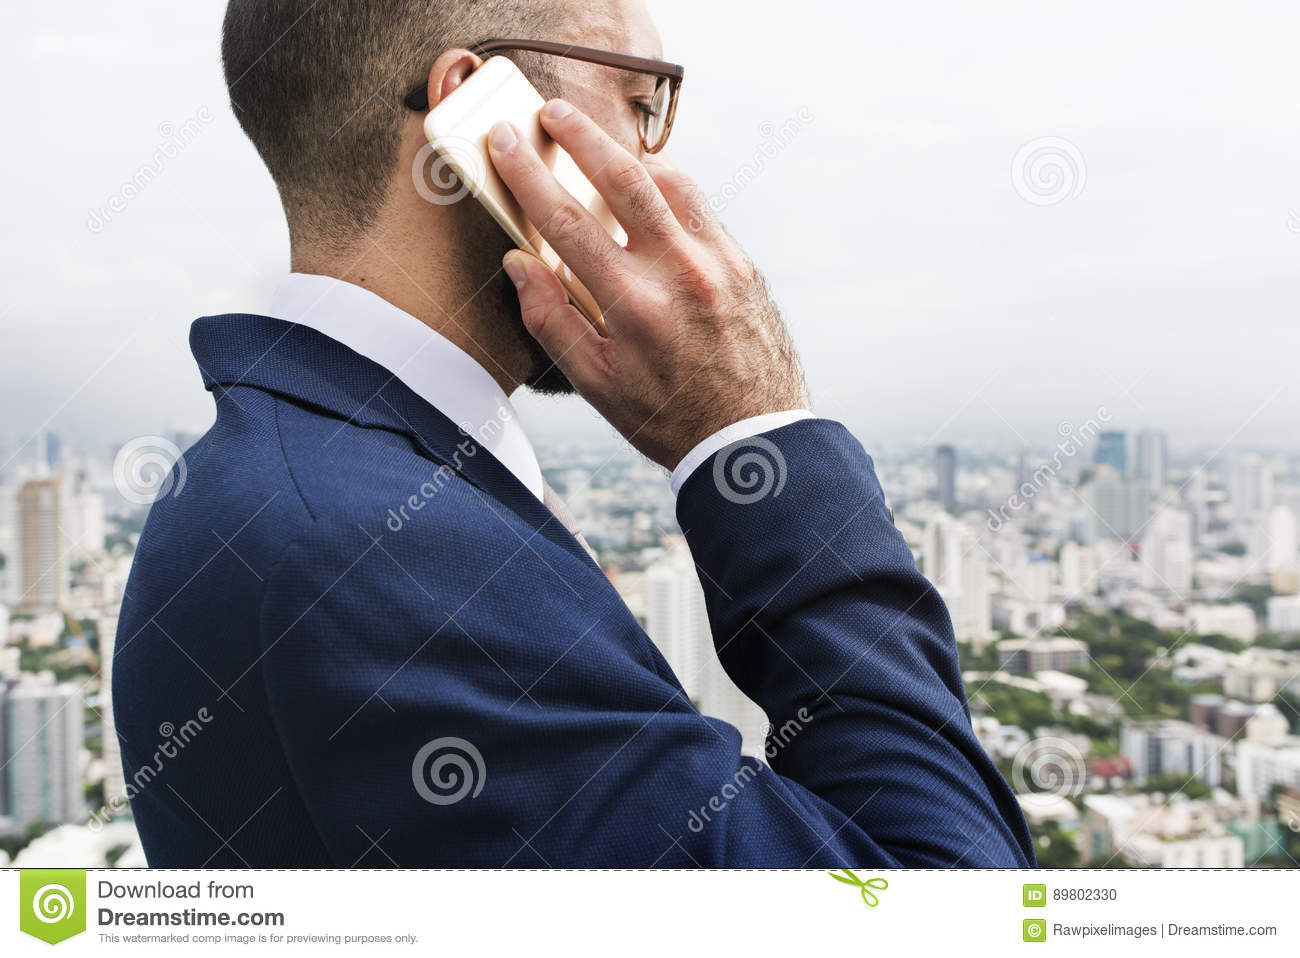smartphone: (421, 56, 632, 341)
